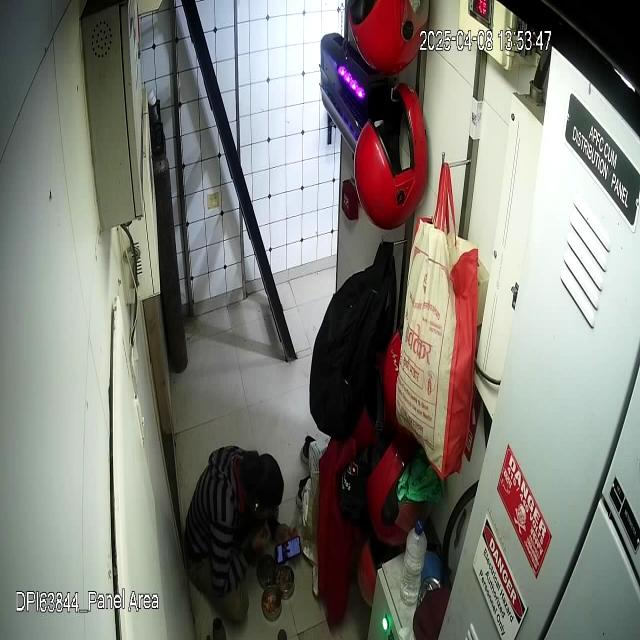helmet: (353, 82, 428, 230), (347, 0, 430, 74)
